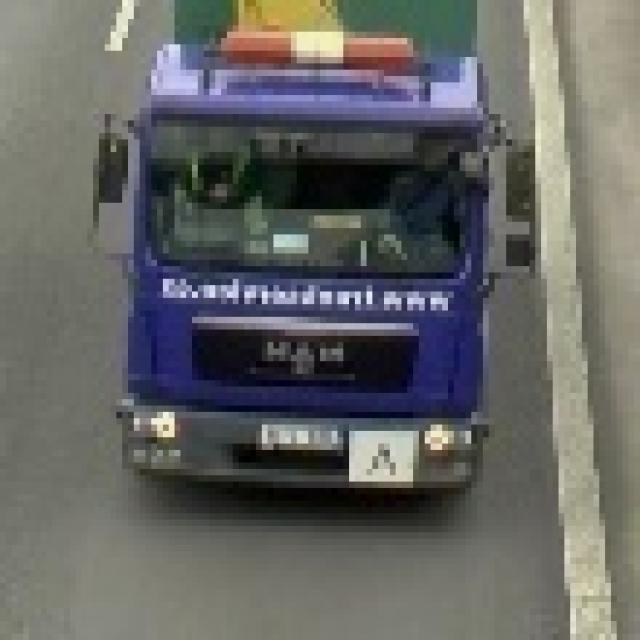truck: (89, 1, 537, 508)
